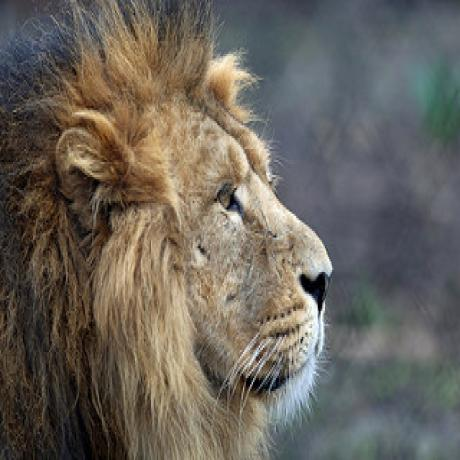Lion: (0, 0, 339, 460)
